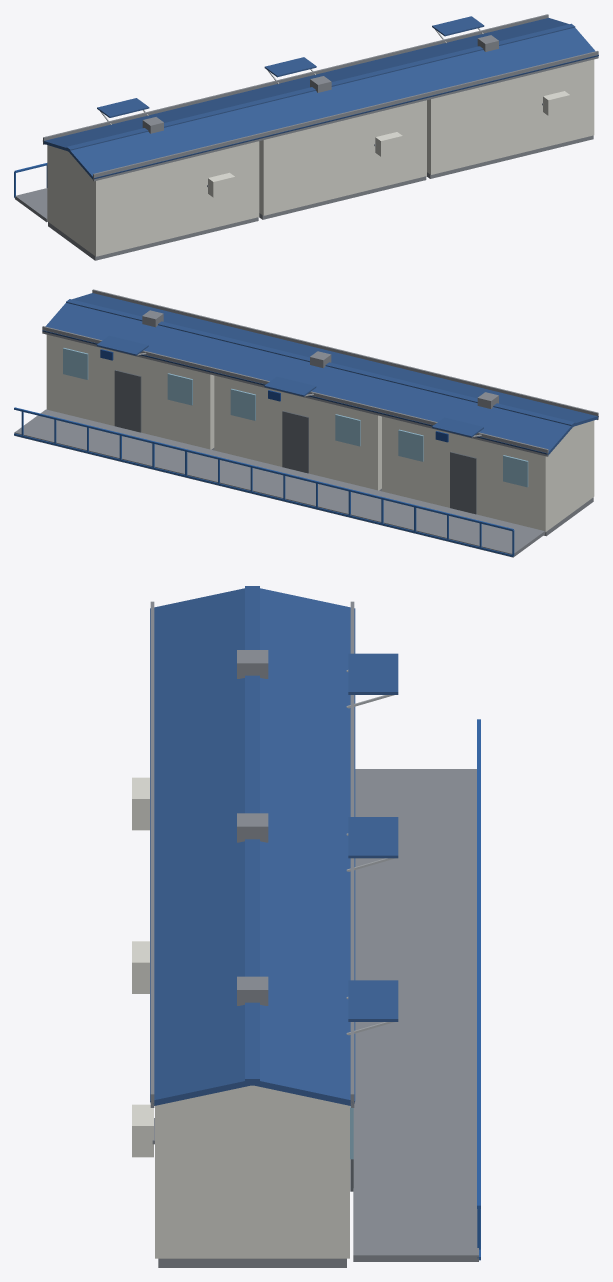
The model's file is prefab_house.glb.
The picture shows the model from 3 angles, top to bottom: view 1: azimuth 30°, elevation 25°; view 2: azimuth 150°, elevation 25°; view 3: azimuth 270°, elevation 25°; orthographic projection. The views are drawn at different scales.
Parts seen in each view (by area): view 1: PrefabHouse; view 2: PrefabHouse; view 3: PrefabHouse.
Boxes of the visible parts, bbox=[...] form: PrefabHouse: bbox=[14, 14, 598, 260]; PrefabHouse: bbox=[14, 289, 598, 557]; PrefabHouse: bbox=[132, 586, 480, 1267].
Bounding box in the file's own units: 18.54 × 3.59 × 5.54.
